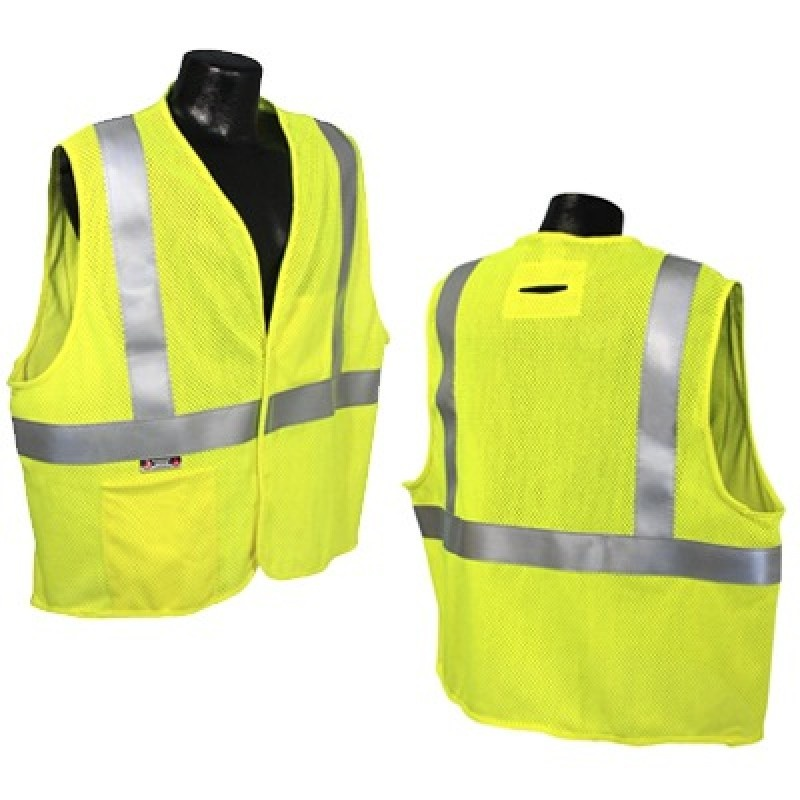safety vest: (414, 239, 779, 748), (18, 102, 378, 614)
